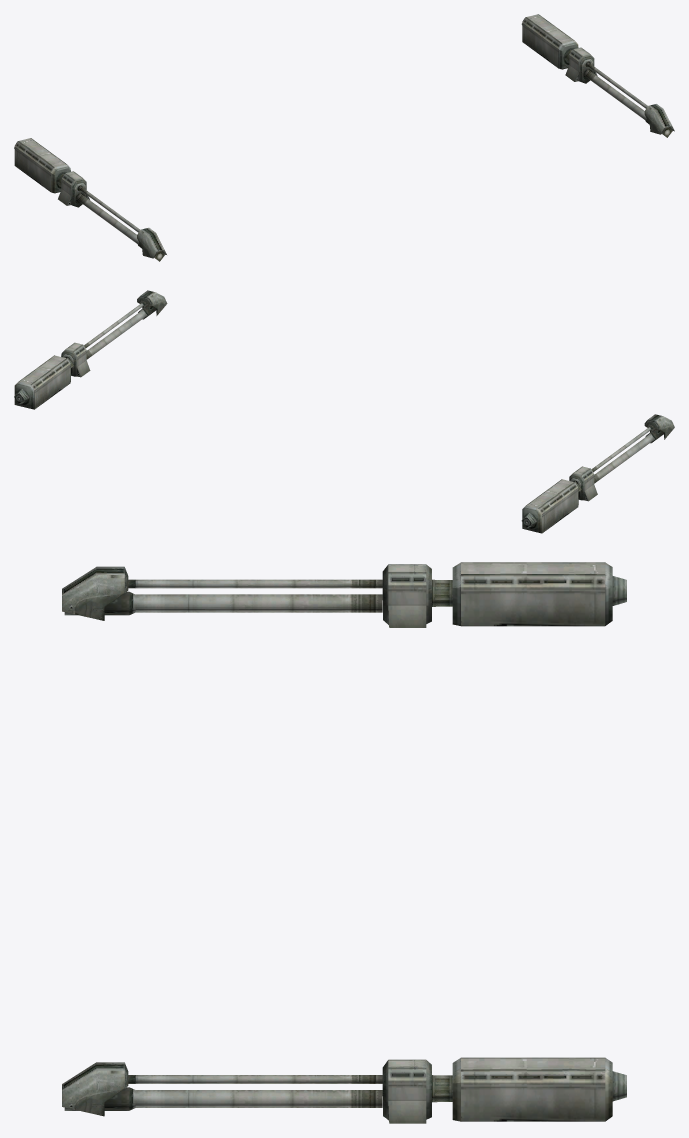
Rendered from z95_weapon_s06_l1.fbx.
3 views of the same model, one above another, from view 1: azimuth 30°, elevation 25°; view 2: azimuth 150°, elevation 25°; view 3: azimuth 270°, elevation 25° (orthographic). The views are drawn at different scales.
Visible parts, largest first — view 1: mesh_node; view 2: mesh_node; view 3: mesh_node.
Part boxes in pixels (left/top/right/bottom): mesh_node: left=14, top=14, right=674, bottom=261; mesh_node: left=14, top=290, right=674, bottom=533; mesh_node: left=62, top=562, right=626, bottom=1123.
Bounding box in the file's own units: 14.61 × 0.7571 × 6.73.
1 material, 1 textured.
